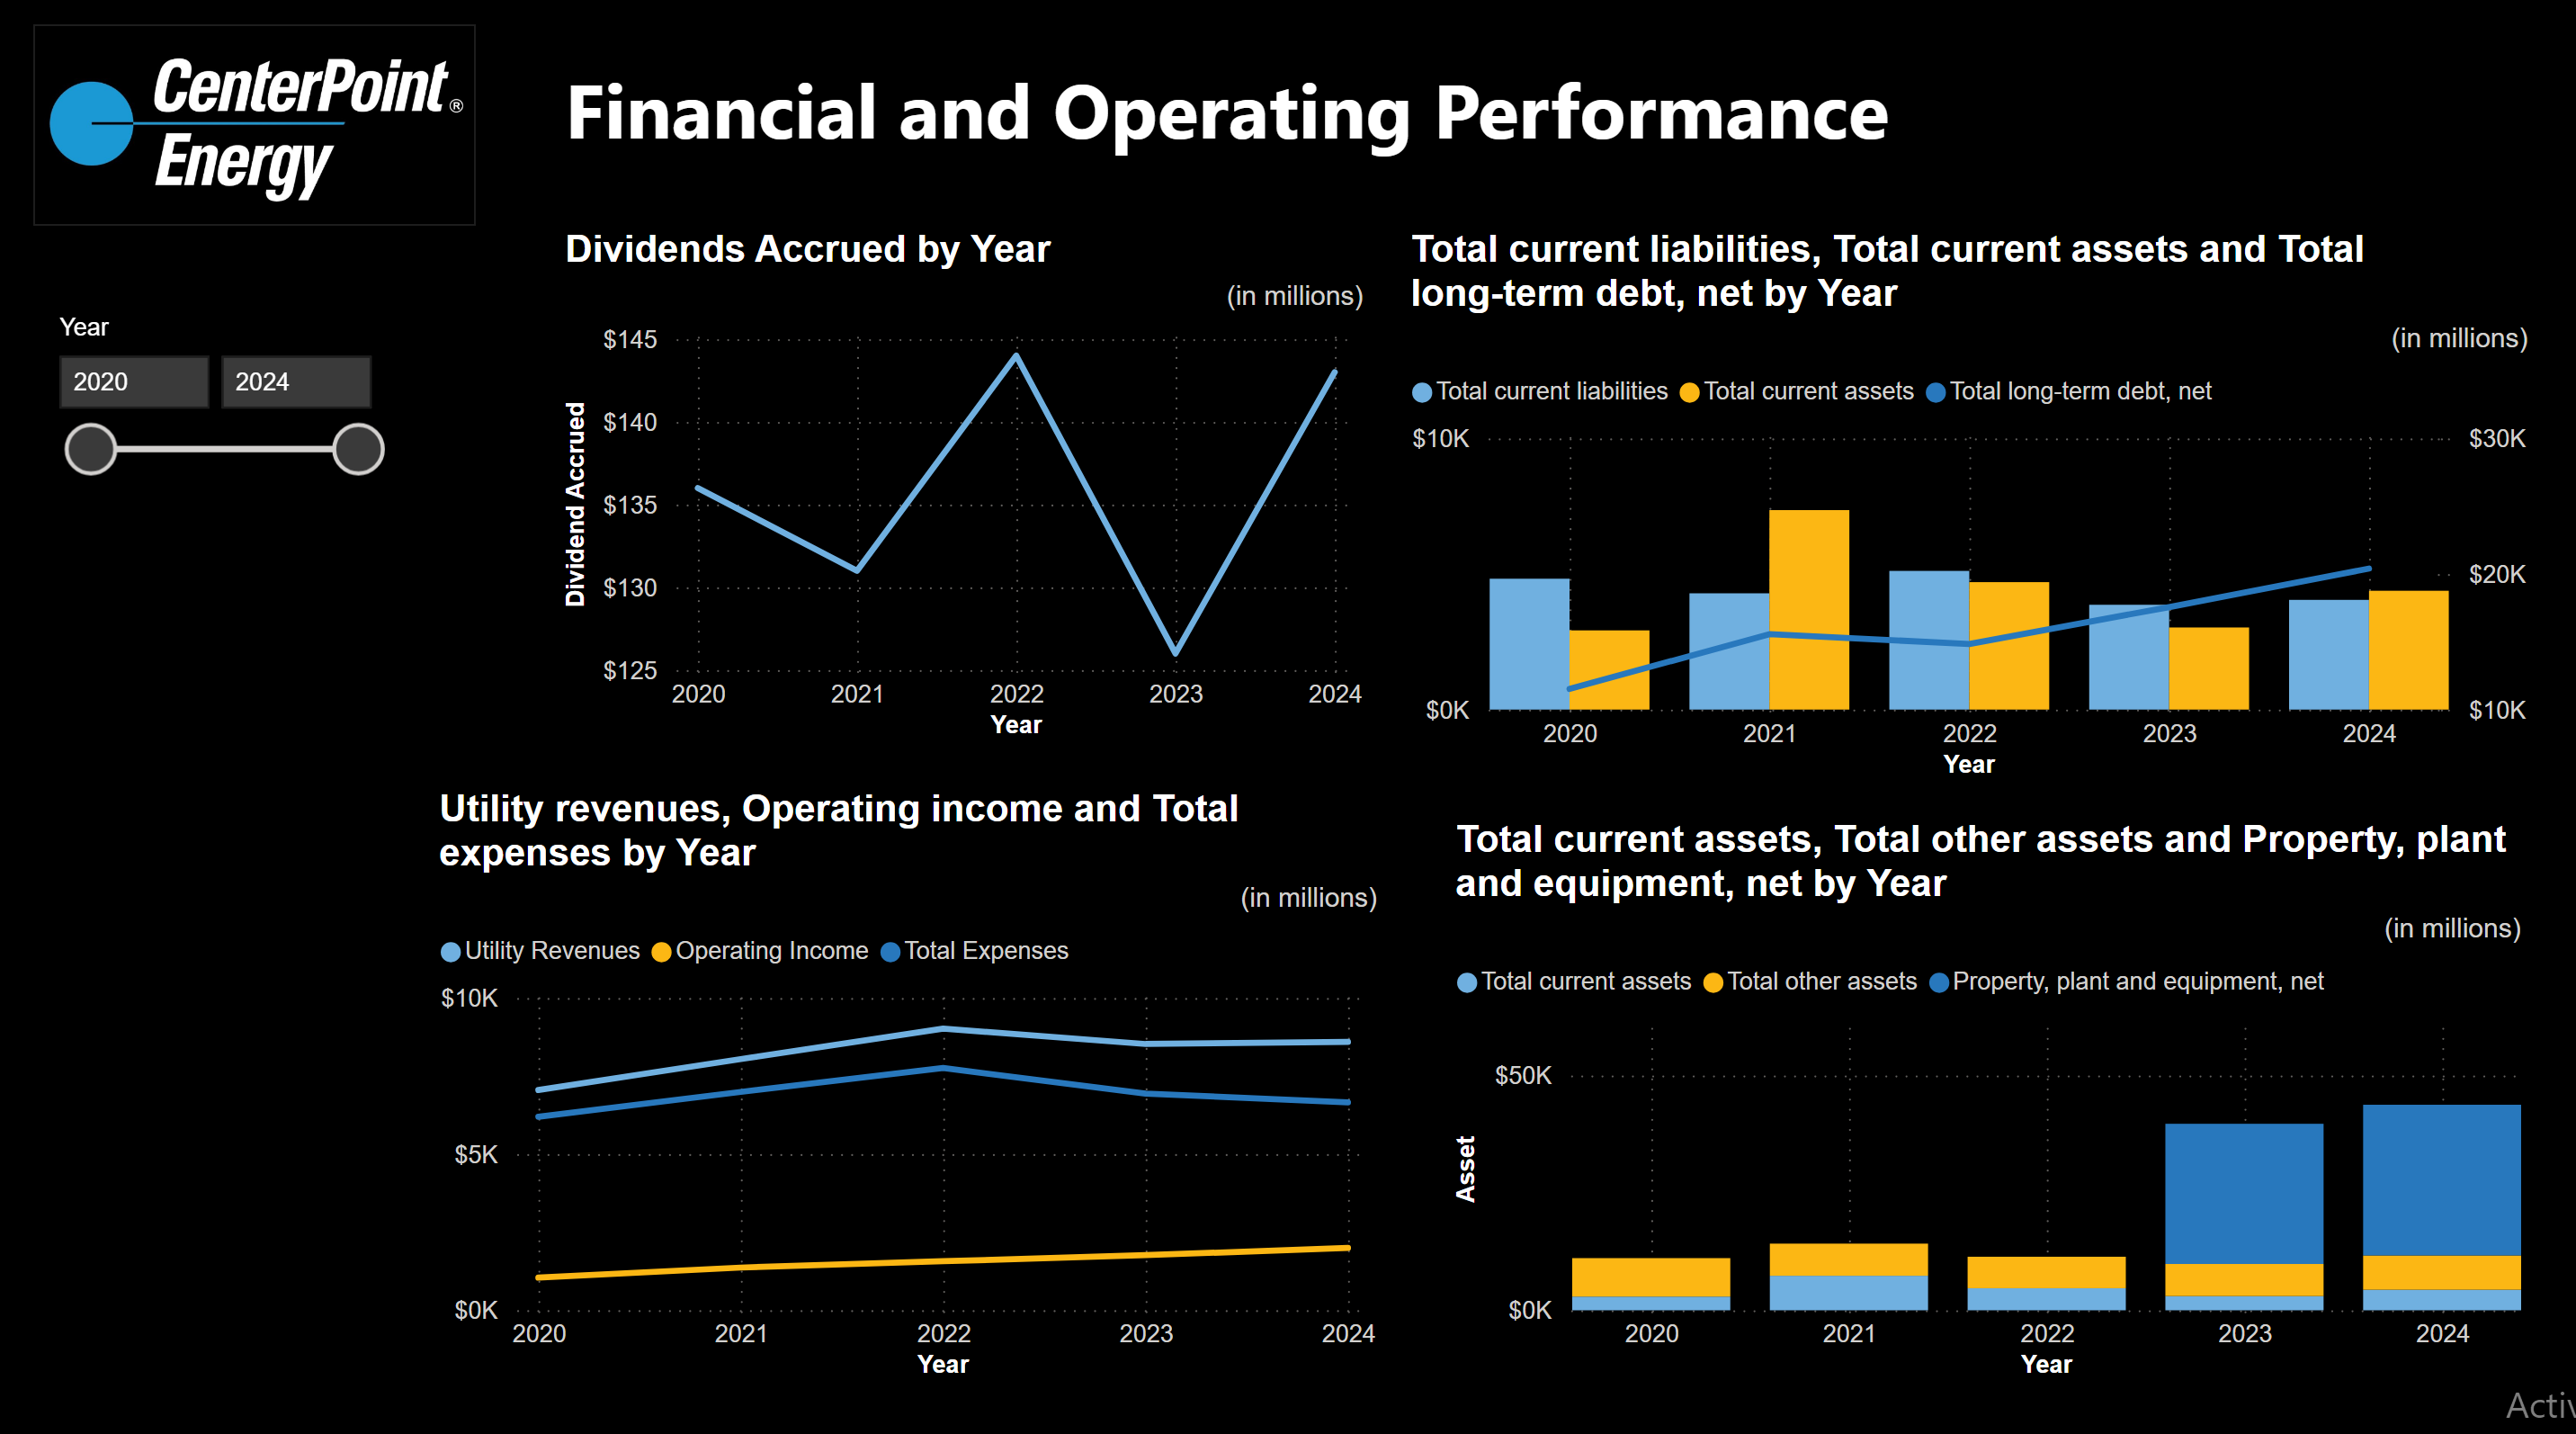

The dashboard page shown, as its layout file describes it:
{"tool":"powerbi","page":{"name":"Economics","canvas":[1280,720],"ordinal":0},"visuals":[{"type":"lineClusteredColumnComboChart","title":"Total current liabilities, Total current assets and Total long-term debt, net by Year","fields":{"Category":["Consolidated Balance Sheet.Year"],"Y":["Sum(Consolidated Balance Sheet.Total current liabilities)","Sum(Consolidated Balance Sheets.Total current assets)"],"Y2":["Sum(Consolidated Balance Sheet.Total long-term debt, net)"]},"box":[697,117.8,561.5,276.3],"z":0},{"type":"lineChart","title":"Utility revenues, Operating income and Total expenses by Year","fields":{"Category":["Year.Year"],"Y":["Sum(Statement of Consolidated.Utility revenues)","Sum(Statement of Consolidated.Operating Income)","Statement of Consolidated.Total Expenses"]},"box":[217.9,394.1,472.9,296.7],"z":1000},{"type":"lineChart","title":"Dividends Accrued by Year","fields":{"Y":["Sum(Consolidated Balance Sheet.Dividends accrued)"],"Category":["Year.Year"]},"box":[279.9,117.8,403.8,256.8],"z":2000},{"type":"columnChart","title":"Total current assets, Total other assets and Property, plant and equipment, net by Year","fields":{"Category":["Consolidated Balance Sheets.Year"],"Y":["Sum(Consolidated Balance Sheets.Total current assets)","Sum(Consolidated Balance Sheets.Total other assets)","Sum(Consolidated Balance Sheets.Property, plant and equipment, net)"]},"box":[719.1,409.2,535.8,281.6],"z":3000},{"type":"slicer","fields":{"Values":["Year.Year"]},"box":[22.1,155,181.5,101],"z":4000},{"type":"image","box":[22.1,17.4,218.6,100],"z":5000},{"type":"textbox","box":[279.9,28.3,964.4,79.7],"z":6000}]}

Visuals, with their boxes in screenshot pixels (x1, y1, x2, y2), scaled from the page's 1280x720 canvas onto the 2576x1434 screenshot:
"Total current liabilities, Total current assets and Total long-term debt, net by Year" lineClusteredColumnComboChart: crop(1403, 235, 2533, 784)
"Utility revenues, Operating income and Total expenses by Year" lineChart: crop(439, 784, 1391, 1376)
"Dividends Accrued by Year" lineChart: crop(563, 235, 1376, 746)
"Total current assets, Total other assets and Property, plant and equipment, net by Year" columnChart: crop(1447, 815, 2526, 1376)
slicer - Year.Year: crop(44, 309, 410, 510)
image: crop(44, 35, 485, 234)
textbox: crop(563, 57, 2504, 215)
